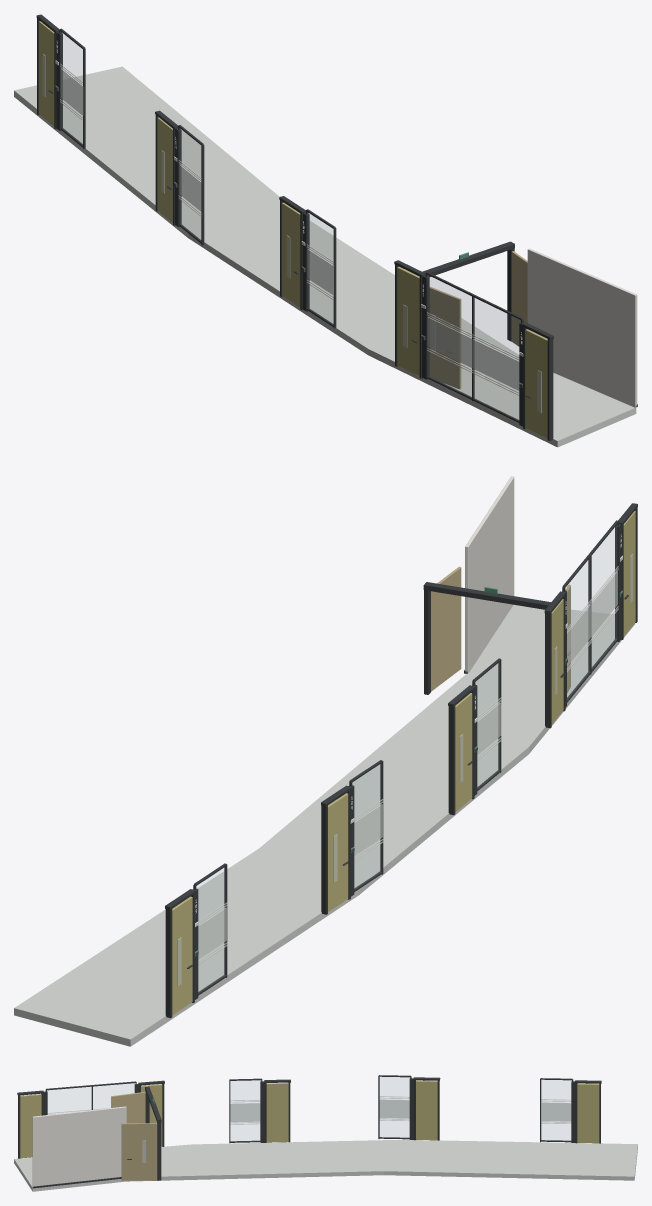
File: viewer-classroom-link.glb
The picture shows the model from 3 angles, top to bottom: view 1: azimuth 30°, elevation 25°; view 2: azimuth 150°, elevation 25°; view 3: azimuth 270°, elevation 25°; orthographic projection. The views are drawn at different scales.
Parts seen in each view (by area): view 1: classroom-link-ground-011, classroom-link-architecture-003, classroom-link-architecture-009, classroom-link-architecture-008, classroom-link-architecture-000, classroom-link-architecture-006, classroom-link-architecture-007, classroom-link-architecture-001, classroom-link-architecture-005; view 2: classroom-link-ground-011, classroom-link-architecture-009, classroom-link-architecture-000, classroom-link-architecture-008, classroom-link-architecture-003, classroom-link-architecture-006, classroom-link-architecture-007, classroom-link-architecture-001, classroom-link-architecture-005; view 3: classroom-link-ground-011, classroom-link-architecture-008, classroom-link-architecture-003, classroom-link-architecture-000, classroom-link-architecture-009, classroom-link-architecture-007, classroom-link-architecture-006, classroom-link-architecture-001.
Boxes of the visible parts, <box> form: classroom-link-ground-011: <box>14,66,636,447</box>; classroom-link-architecture-003: <box>55,40,637,407</box>; classroom-link-architecture-009: <box>36,14,637,440</box>; classroom-link-architecture-008: <box>61,32,520,420</box>; classroom-link-architecture-000: <box>39,21,547,438</box>; classroom-link-architecture-006: <box>60,68,519,390</box>; classroom-link-architecture-007: <box>429,251,527,389</box>; classroom-link-architecture-001: <box>60,63,519,395</box>; classroom-link-architecture-005: <box>42,54,541,413</box>; classroom-link-ground-011: <box>14,605,635,1046</box>; classroom-link-architecture-009: <box>165,503,637,1018</box>; classroom-link-architecture-000: <box>172,511,635,1014</box>; classroom-link-architecture-008: <box>197,526,616,991</box>; classroom-link-architecture-003: <box>195,476,622,926</box>; classroom-link-architecture-006: <box>198,571,617,959</box>; classroom-link-architecture-007: <box>431,566,570,693</box>; classroom-link-architecture-001: <box>198,566,618,964</box>; classroom-link-architecture-005: <box>177,554,632,985</box>; classroom-link-ground-011: <box>14,1139,637,1191</box>; classroom-link-architecture-008: <box>47,1077,571,1140</box>; classroom-link-architecture-003: <box>32,1106,126,1187</box>; classroom-link-architecture-000: <box>20,1080,599,1158</box>; classroom-link-architecture-009: <box>17,1075,601,1188</box>; classroom-link-architecture-007: <box>111,1091,157,1180</box>; classroom-link-architecture-006: <box>230,1099,571,1122</box>; classroom-link-architecture-001: <box>48,1096,571,1124</box>.
Size of the model in its own units: 4.75 by 3.32 by 25.1.
